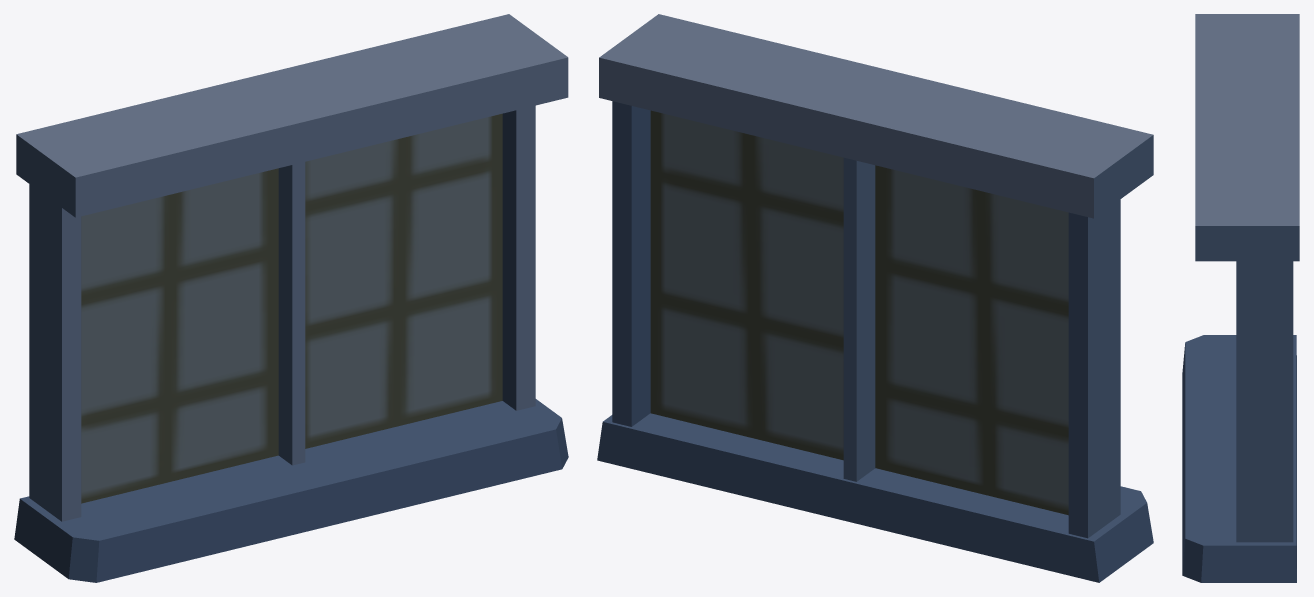
File: Door_A1.fbx
The picture shows the model from 3 angles, left to right: view 1: azimuth 30°, elevation 25°; view 2: azimuth 150°, elevation 25°; view 3: azimuth 270°, elevation 25°; orthographic projection. The views are drawn at different scales.
Visible parts, largest first — view 1: Door_A1; view 2: Door_A1; view 3: Door_A1.
Boxes of the visible parts, x1,y1,x2,y2 form: Door_A1: (14, 14, 568, 582); Door_A1: (597, 14, 1153, 582); Door_A1: (1182, 14, 1299, 582).
Size of the model in its own units: 451 by 347 by 104.
